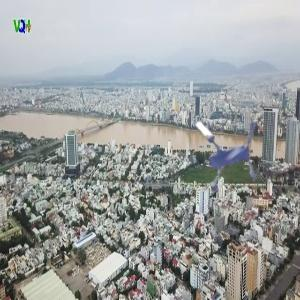drone: (170, 91, 284, 205)
